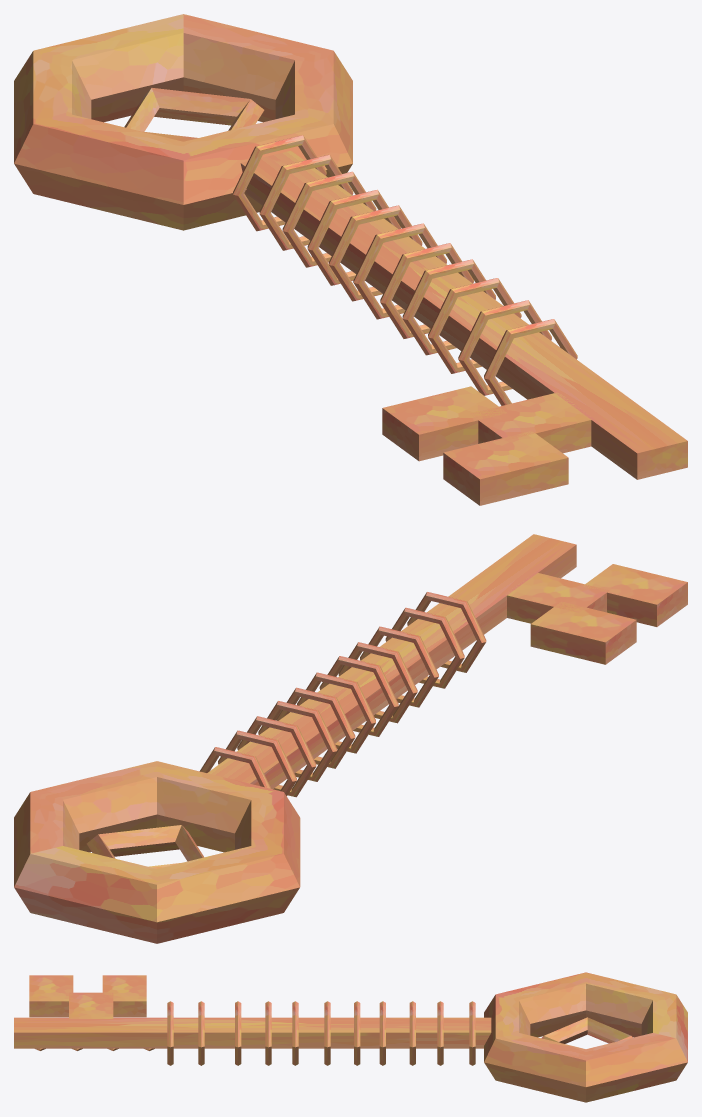
Rendered from colectable.fbx.
3 views of the same model, one above another, from view 1: azimuth 30°, elevation 25°; view 2: azimuth 150°, elevation 25°; view 3: azimuth 270°, elevation 25° (orthographic). The views are drawn at different scales.
Visible parts, largest first — view 1: pTorus13, pCube1, pCube5, pCube4, pCube2, pTorus15, pTorus5, pTorus12, pTorus8, pTorus3, pTorus7, pTorus4 (+5 smaller); view 2: pTorus13, pCube1, pCube4, pCube5, pCube2, pTorus15, pTorus4, pTorus6, pTorus1, pTorus9, pTorus3, pTorus5 (+5 smaller); view 3: pTorus13, pCube1, pCube5, pCube4, pTorus15, pCube2, pTorus1, pTorus3, pTorus4, pTorus6, pTorus7, pTorus11 (+5 smaller).
Part boxes in pixels (left/top/right/bottom): pTorus13: left=14, top=14, right=352, bottom=230; pCube1: left=240, top=150, right=687, bottom=479; pCube5: left=443, top=431, right=568, bottom=505; pCube4: left=382, top=386, right=506, bottom=461; pCube2: left=470, top=392, right=591, bottom=453; pTorus15: left=124, top=88, right=264, bottom=141; pTorus5: left=428, top=278, right=521, bottom=373; pTorus12: left=233, top=135, right=326, bottom=231; pTorus8: left=329, top=205, right=422, bottom=301; pTorus3: left=402, top=259, right=495, bottom=355; pTorus7: left=353, top=223, right=446, bottom=319; pTorus4: left=458, top=300, right=551, bottom=395; pTorus13: left=14, top=761, right=300, bottom=943; pCube1: left=207, top=534, right=576, bottom=789; pCube4: left=530, top=601, right=636, bottom=664; pCube5: left=583, top=564, right=687, bottom=626; pCube2: left=505, top=572, right=609, bottom=623; pTorus15: left=86, top=825, right=203, bottom=868; pTorus4: left=385, top=607, right=464, bottom=688; pTorus6: left=319, top=656, right=398, bottom=736; pTorus1: left=407, top=592, right=486, bottom=672; pTorus9: left=258, top=701, right=337, bottom=781; pTorus3: left=338, top=642, right=417, bottom=723; pTorus5: left=360, top=626, right=438, bottom=707; pTorus13: left=484, top=972, right=687, bottom=1102; pCube1: left=14, top=1017, right=491, bottom=1048; pCube5: left=29, top=975, right=73, bottom=1017; pCube4: left=102, top=975, right=146, bottom=1017; pTorus15: left=541, top=1017, right=632, bottom=1043; pCube2: left=69, top=992, right=113, bottom=1018; pTorus1: left=167, top=1001, right=173, bottom=1065; pTorus3: left=265, top=1001, right=271, bottom=1065; pTorus4: left=198, top=1001, right=204, bottom=1065; pTorus6: left=292, top=1001, right=298, bottom=1065; pTorus7: left=324, top=1001, right=330, bottom=1065; pTorus11: left=437, top=1001, right=443, bottom=1065.
Bounding box in the file's own units: 5.34 × 1.28 × 15.28.
Materials: 1 (1 with a texture image).
